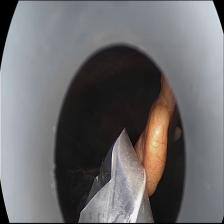Specimen Bag: (79, 127, 159, 224)
